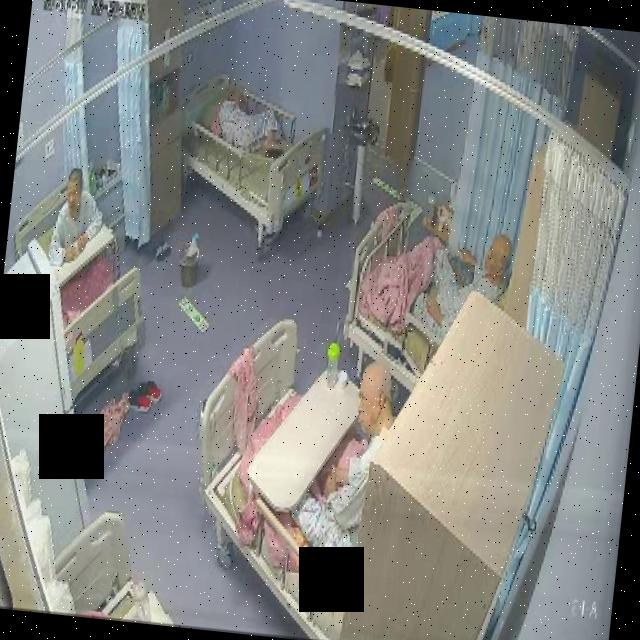bed: (179, 315, 406, 640), (0, 178, 159, 406), (340, 204, 490, 400), (172, 68, 330, 240)
lie: (206, 82, 290, 160)
patient: (284, 356, 400, 572), (417, 225, 512, 354), (46, 158, 106, 270), (206, 83, 290, 158)
sit: (285, 357, 400, 572), (381, 222, 514, 353), (46, 158, 108, 270)
